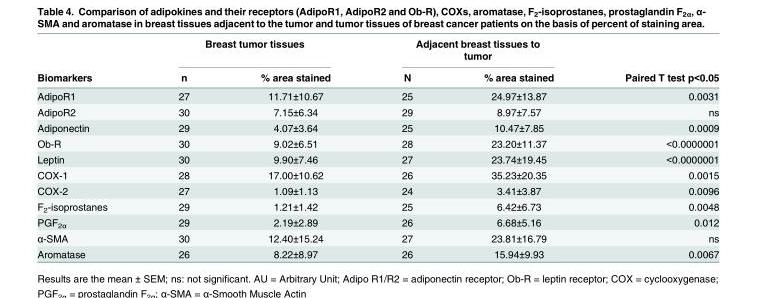table: (36, 37, 718, 259)
table column: (224, 37, 365, 259), (447, 37, 588, 259), (588, 37, 718, 259), (36, 37, 142, 259), (142, 37, 224, 259), (365, 37, 447, 259)
table column header: (36, 37, 718, 86)
table row: (36, 37, 718, 65), (36, 65, 718, 86), (36, 86, 718, 103), (36, 103, 718, 119), (36, 119, 718, 135), (36, 135, 718, 151), (36, 166, 718, 182), (36, 182, 718, 198), (36, 198, 718, 214), (36, 214, 718, 230), (36, 151, 718, 166), (36, 230, 718, 245), (36, 245, 718, 259)
table spanning cell: (588, 37, 718, 86), (142, 37, 365, 65), (365, 37, 588, 65), (36, 37, 142, 86)
